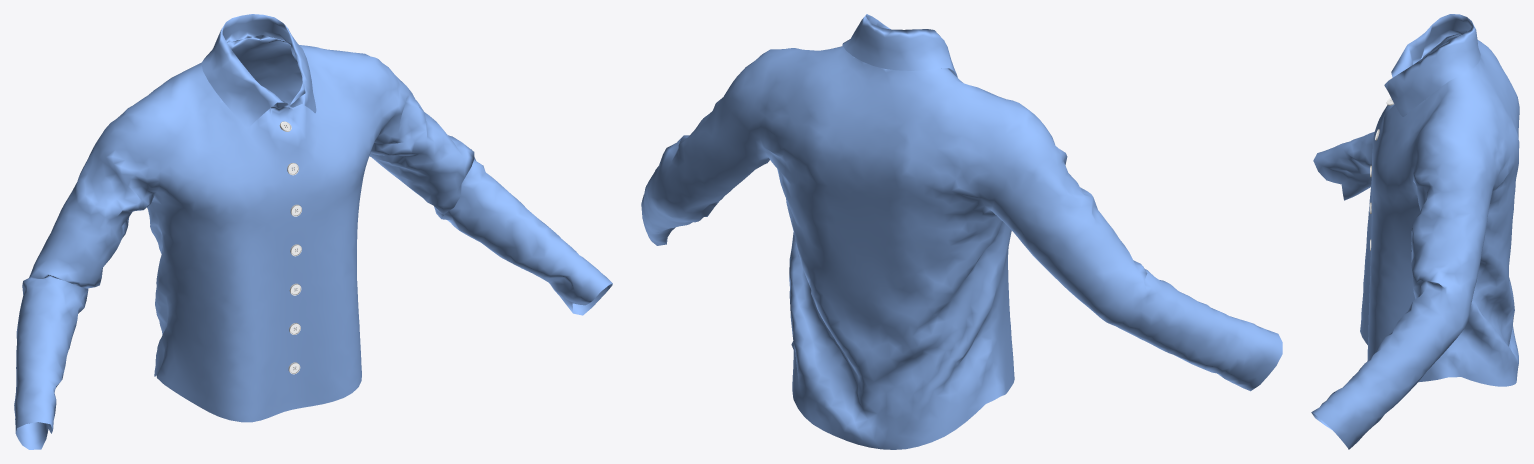
File: shirt_for_men.glb
3 renders of one model, left to right at view 1: azimuth 30°, elevation 25°; view 2: azimuth 150°, elevation 25°; view 3: azimuth 270°, elevation 25°, orthographic. The views are drawn at different scales.
Visible parts, largest first — view 1: ChemiseHomme; view 2: ChemiseHomme; view 3: ChemiseHomme.
Boxes of the visible parts, left/top/right/bottom form: ChemiseHomme: left=14, top=14, right=612, bottom=449; ChemiseHomme: left=641, top=14, right=1282, bottom=449; ChemiseHomme: left=1311, top=14, right=1519, bottom=449.
Bounding box in the file's own units: 1.35 × 0.8026 × 0.4374.
